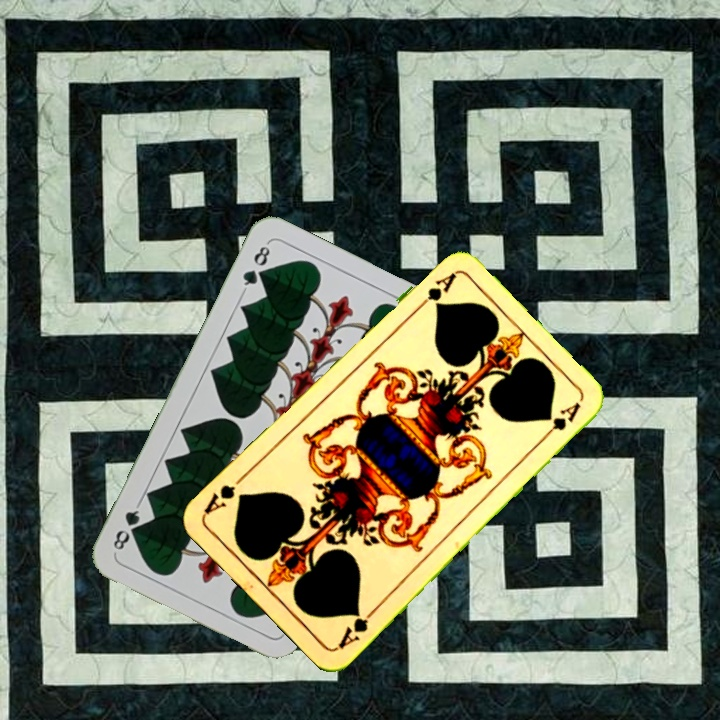G8: (238, 239, 273, 294)
GA: (410, 269, 459, 315), (333, 604, 379, 652)
